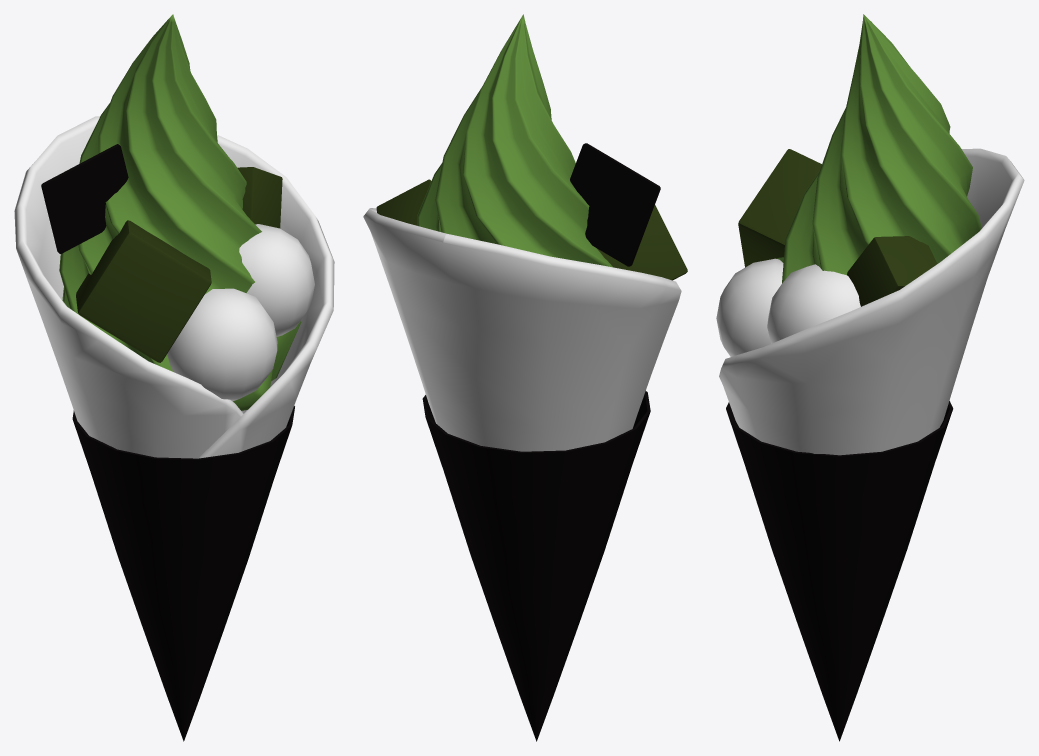
The model's file is icecream.fbx.
3 views of the same model, side by side, from view 1: azimuth 30°, elevation 25°; view 2: azimuth 150°, elevation 25°; view 3: azimuth 270°, elevation 25° (orthographic). The views are drawn at different scales.
Parts seen in each view (by area): view 1: Plane001, Cone001, Star002, Box001, Box003, Box002, Box004; view 2: Plane001, Cone001, Star002, Box002, Box001; view 3: Plane001, Cone001, Star002, Box001, Box004, Box003.
Boxes of the visible parts, <box> form: Plane001: <box>14,116,334,458</box>; Cone001: <box>72,406,294,741</box>; Star002: <box>59,14,301,410</box>; Box001: <box>76,167,282,362</box>; Box003: <box>167,288,277,401</box>; Box002: <box>41,144,128,253</box>; Box004: <box>239,224,314,336</box>; Plane001: <box>363,208,681,451</box>; Cone001: <box>422,391,650,741</box>; Star002: <box>417,14,613,267</box>; Box002: <box>570,143,660,266</box>; Box001: <box>376,179,687,280</box>; Plane001: <box>719,148,1024,455</box>; Cone001: <box>726,401,953,741</box>; Star002: <box>776,14,981,283</box>; Box001: <box>738,149,937,306</box>; Box004: <box>767,264,860,343</box>; Box003: <box>716,258,783,356</box>.
Bounding box in the file's own units: 26.9 × 66.43 × 25.47.
